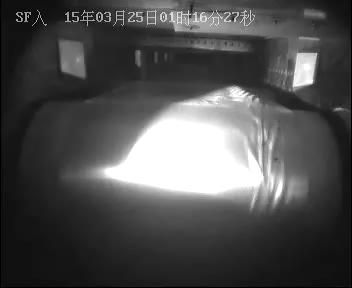wrinkled steel: (246, 116, 287, 221), (205, 82, 275, 110)
